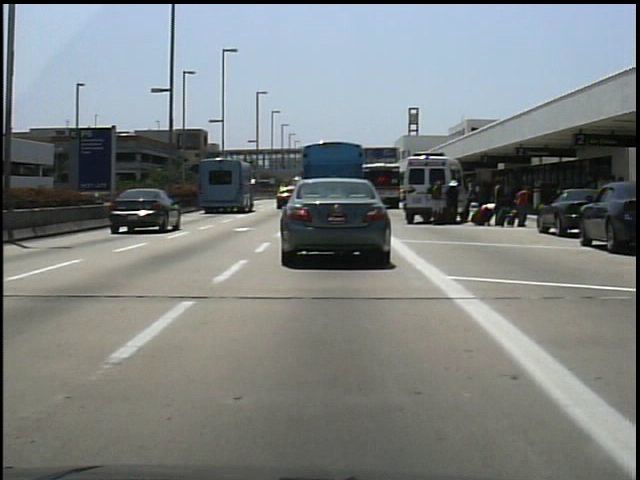person: (443, 175, 466, 227), (425, 172, 447, 225), (485, 178, 508, 228), (511, 180, 534, 230)
